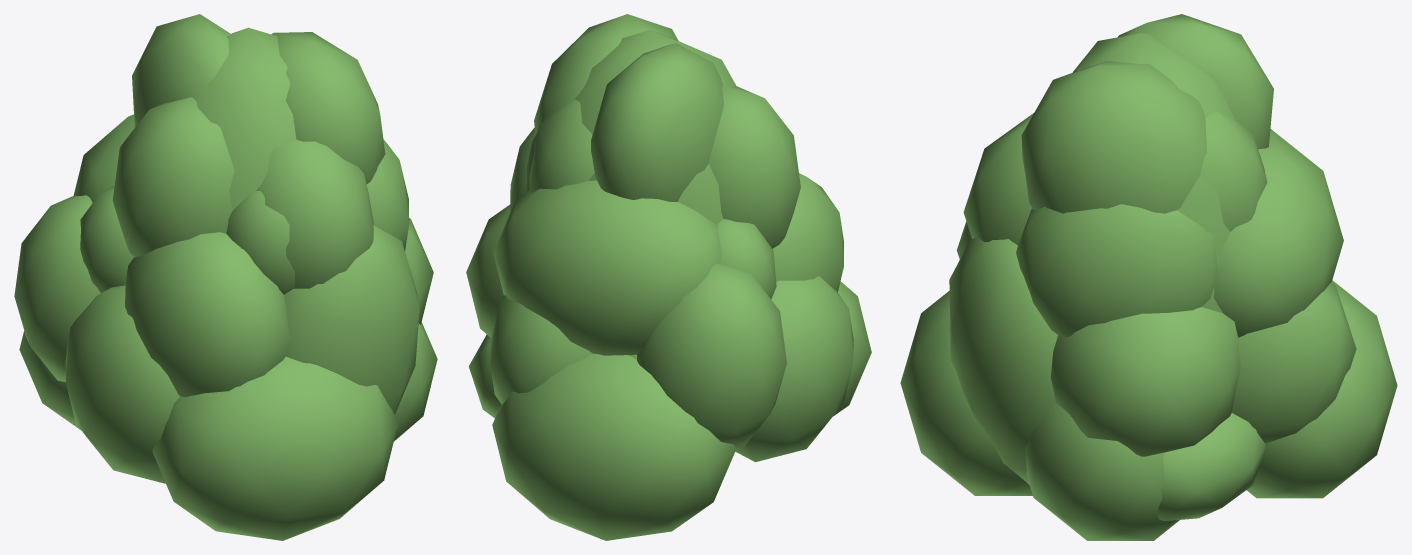
The model's file is Bush.fbx.
The picture shows the model from 3 angles, left to right: view 1: azimuth 30°, elevation 25°; view 2: azimuth 150°, elevation 25°; view 3: azimuth 270°, elevation 25°; orthographic projection. The views are drawn at different scales.
Parts seen in each view (by area): view 1: Icosphere.018, Icosphere.006, Icosphere.007, Icosphere.015, Icosphere.004, Icosphere.011, Icosphere, Icosphere.013, Icosphere.003, Icosphere.016, Icosphere.014, Bush (+5 smaller); view 2: Icosphere.020, Icosphere.002, Icosphere.003, Icosphere.016, Icosphere.004, Icosphere.015, Icosphere.009, Icosphere.006, Icosphere, Icosphere.013, Icosphere.012, Icosphere.008 (+4 smaller); view 3: Icosphere.013, Icosphere.008, Icosphere.010, Icosphere.007, Icosphere.002, Icosphere.017, Icosphere.020, Icosphere.009, Icosphere.018, Icosphere.001, Icosphere.016, Icosphere (+2 smaller).
Part boxes in pixels (bbox=[...]): Icosphere.018: bbox=[152, 356, 398, 540]; Icosphere.006: bbox=[125, 232, 291, 396]; Icosphere.007: bbox=[284, 225, 419, 414]; Icosphere.015: bbox=[112, 97, 234, 257]; Icosphere.004: bbox=[65, 285, 180, 483]; Icosphere.011: bbox=[256, 139, 373, 288]; Icosphere: bbox=[195, 27, 296, 233]; Icosphere.013: bbox=[271, 32, 385, 184]; Icosphere.003: bbox=[14, 195, 100, 382]; Icosphere.016: bbox=[132, 14, 231, 127]; Icosphere.014: bbox=[226, 191, 294, 294]; Bush: bbox=[80, 186, 133, 292]; Icosphere.020: bbox=[492, 353, 735, 540]; Icosphere.002: bbox=[493, 180, 721, 355]; Icosphere.003: bbox=[637, 263, 786, 447]; Icosphere.016: bbox=[591, 43, 723, 201]; Icosphere.004: bbox=[735, 276, 853, 462]; Icosphere.015: bbox=[708, 86, 800, 248]; Icosphere.009: bbox=[490, 295, 592, 404]; Icosphere.006: bbox=[772, 173, 843, 291]; Icosphere: bbox=[525, 30, 736, 224]; Icosphere.013: bbox=[534, 14, 678, 135]; Icosphere.012: bbox=[529, 99, 594, 193]; Icosphere.008: bbox=[466, 204, 510, 337]; Icosphere.013: bbox=[1021, 61, 1206, 213]; Icosphere.008: bbox=[1050, 307, 1240, 456]; Icosphere.010: bbox=[1016, 204, 1217, 337]; Icosphere.007: bbox=[949, 237, 1057, 485]; Icosphere.002: bbox=[1214, 129, 1343, 337]; Icosphere.017: bbox=[1025, 403, 1179, 540]; Icosphere.020: bbox=[1246, 280, 1397, 498]; Icosphere.009: bbox=[1232, 282, 1356, 443]; Icosphere.018: bbox=[900, 291, 1032, 495]; Icosphere.001: bbox=[1157, 413, 1265, 520]; Icosphere.016: bbox=[1118, 14, 1273, 149]; Icosphere: bbox=[1073, 33, 1235, 313].
Size of the model in its own units: 104 by 130 by 123.
